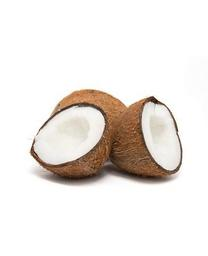coconut: (30, 101, 110, 180), (113, 96, 184, 185)
